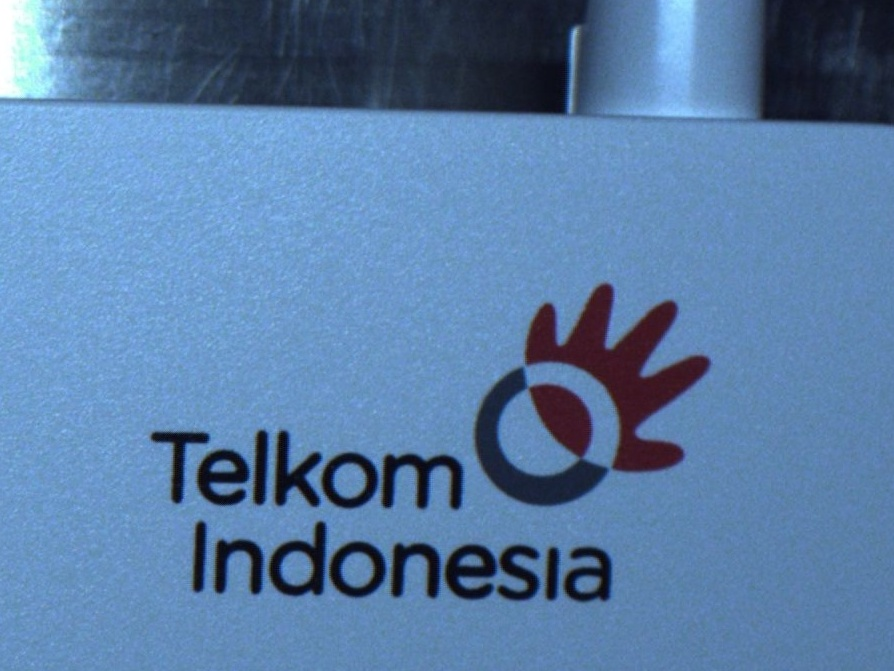BQ_IndonTelkom: (111, 275, 710, 600)
